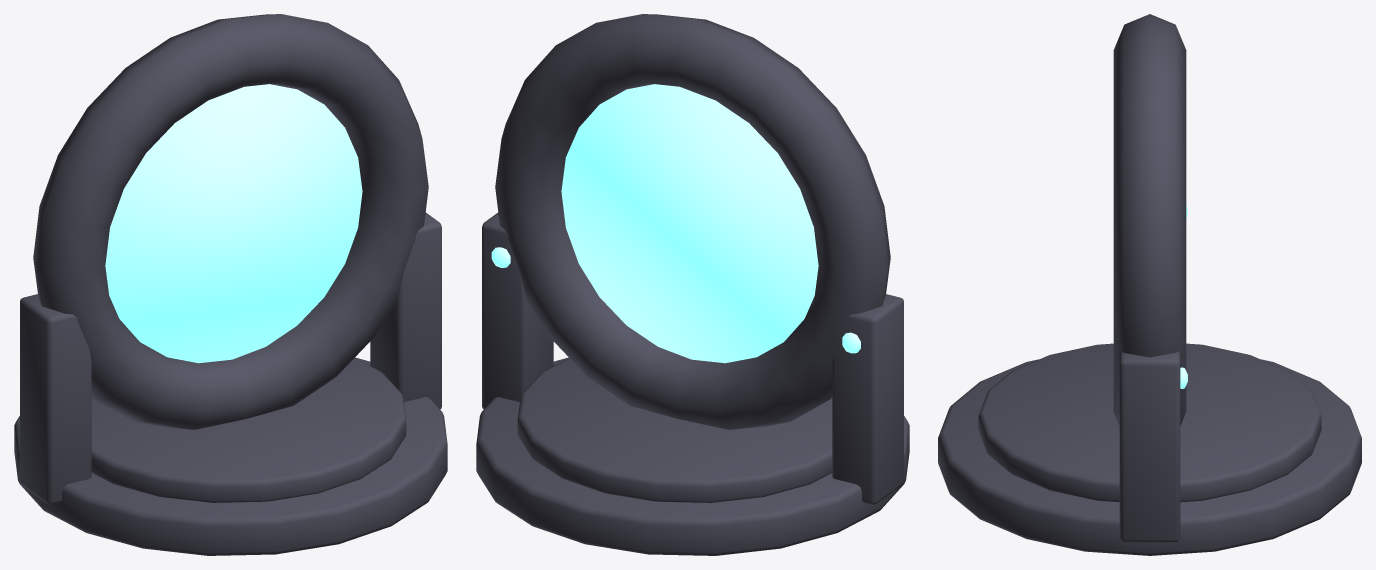
File: portal.glb
3 views of the same model, side by side, from view 1: azimuth 30°, elevation 25°; view 2: azimuth 150°, elevation 25°; view 3: azimuth 270°, elevation 25° (orthographic). The views are drawn at different scales.
Parts seen in each view (by area): view 1: portal; view 2: portal; view 3: portal.
Part boxes in pixels (x1,y1,x2,y2): portal: (14,14,447,555); portal: (476,14,909,555); portal: (938,14,1361,555).
Size of the model in its own units: 4.4 by 4.76 by 4.2.
